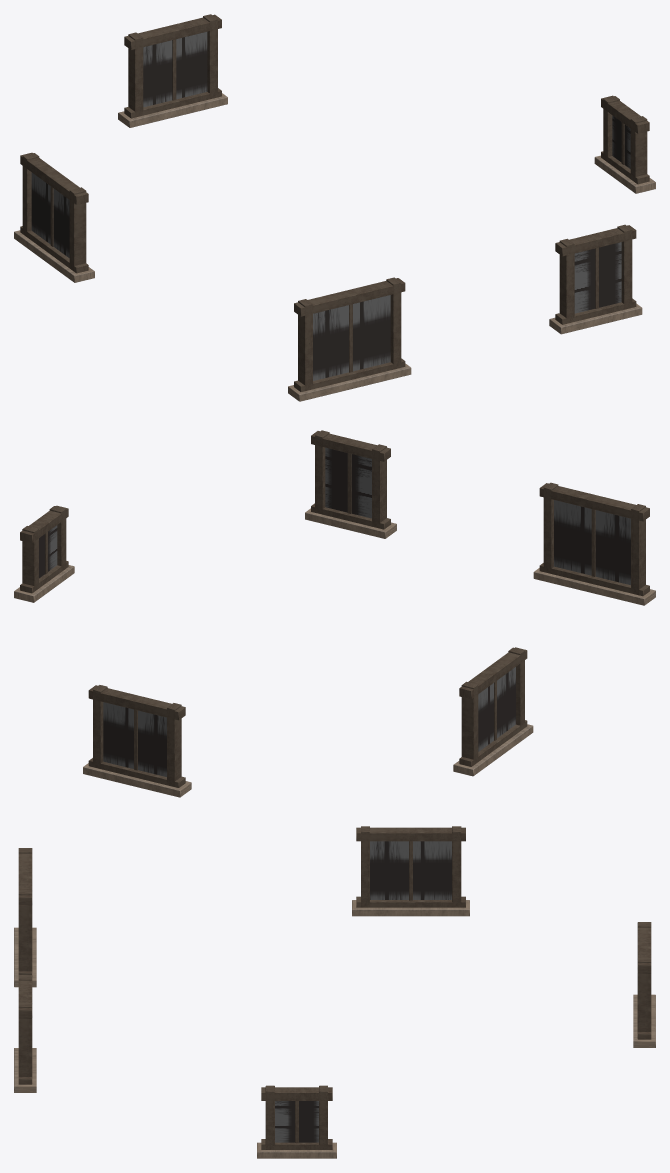
The model's file is BW_ElderCottage01_Windows.fbx.
3 renders of one model, top to bottom at view 1: azimuth 30°, elevation 25°; view 2: azimuth 150°, elevation 25°; view 3: azimuth 270°, elevation 25°, orthographic. The views are drawn at different scales.
Visible parts, largest first — view 1: BW_ElderCottage01_Windows; view 2: BW_ElderCottage01_Windows; view 3: BW_ElderCottage01_Windows.
Part boxes in pixels (<box>): BW_ElderCottage01_Windows: <box>14,14,655,401</box>; BW_ElderCottage01_Windows: <box>14,430,655,797</box>; BW_ElderCottage01_Windows: <box>14,826,655,1158</box>.
Bounding box in the file's own units: 7.84 × 1.3 × 8.44.
